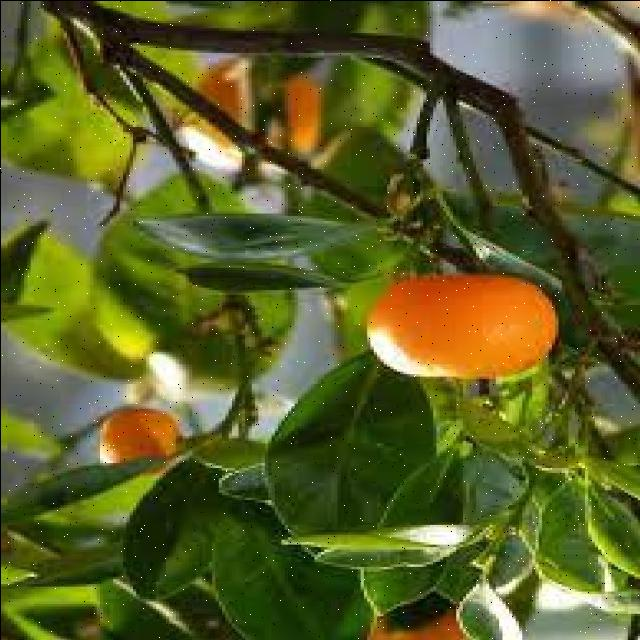Orange: (365, 272, 559, 381), (98, 408, 180, 467)
